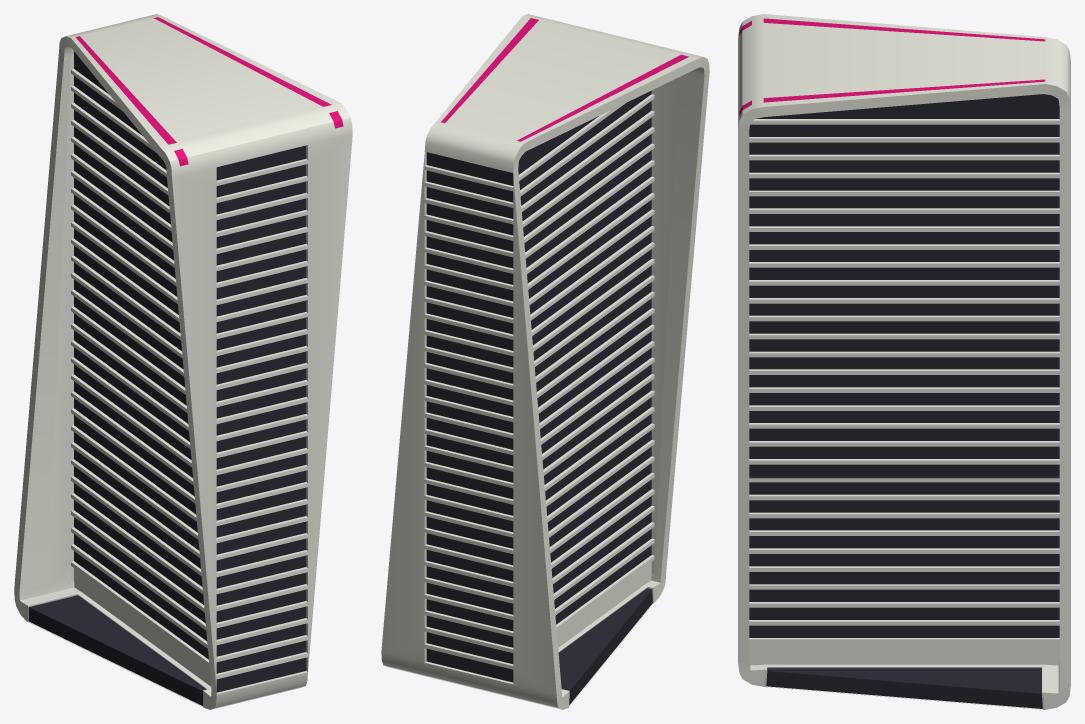
File: VirginCentre.FBX
The picture shows the model from 3 angles, left to right: view 1: azimuth 30°, elevation 25°; view 2: azimuth 150°, elevation 25°; view 3: azimuth 270°, elevation 25°; orthographic projection. The views are drawn at different scales.
Visible parts, largest first — view 1: VirginCentre; view 2: VirginCentre; view 3: VirginCentre.
Boxes of the visible parts, x1=… form: VirginCentre: x1=14, y1=14, x2=352, y2=709; VirginCentre: x1=381, y1=14, x2=709, y2=709; VirginCentre: x1=738, y1=14, x2=1070, y2=709.
Size of the model in its own units: 99.12 by 300 by 150.
